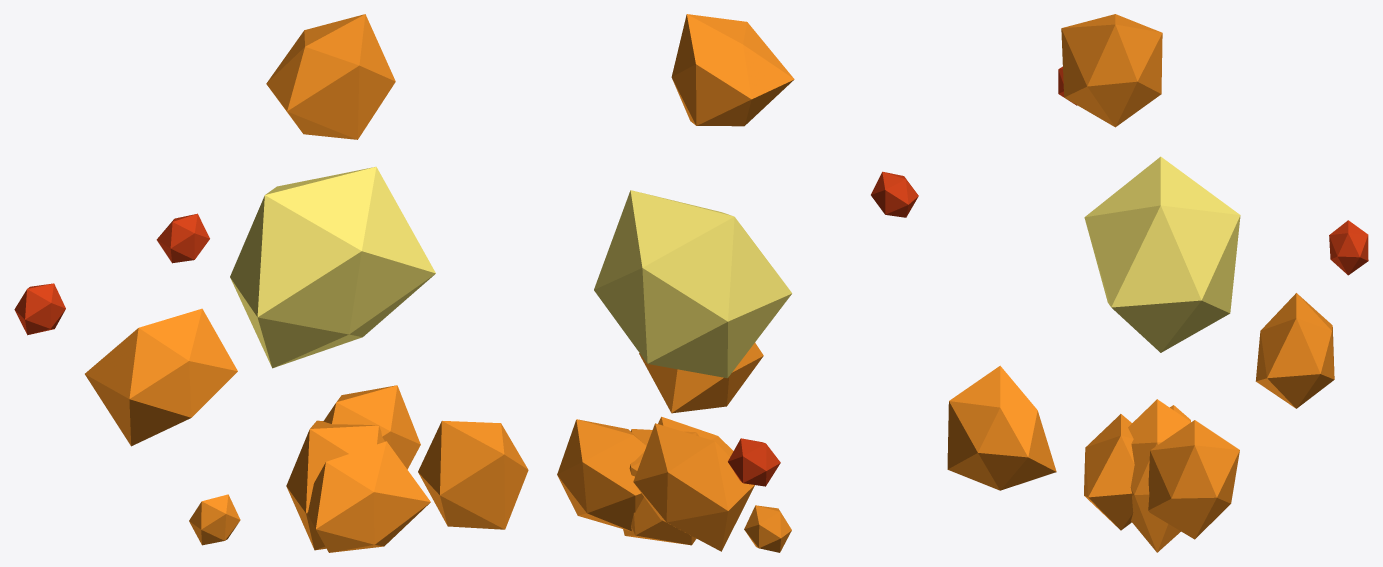
The model's file is frame_9.glb.
The picture shows the model from 3 angles, left to right: view 1: azimuth 30°, elevation 25°; view 2: azimuth 150°, elevation 25°; view 3: azimuth 270°, elevation 25°; orthographic projection. The views are drawn at different scales.
Visible parts, largest first — view 1: effect_explosion_large_frame_9; view 2: effect_explosion_large_frame_9; view 3: effect_explosion_large_frame_9.
Part boxes in pixels (box(x1,y1,x2,y2)): effect_explosion_large_frame_9: box(14, 14, 528, 552); effect_explosion_large_frame_9: box(557, 14, 918, 552); effect_explosion_large_frame_9: box(947, 14, 1368, 552).
Bounding box in the file's own units: 11.1 × 18.24 × 13.68.
